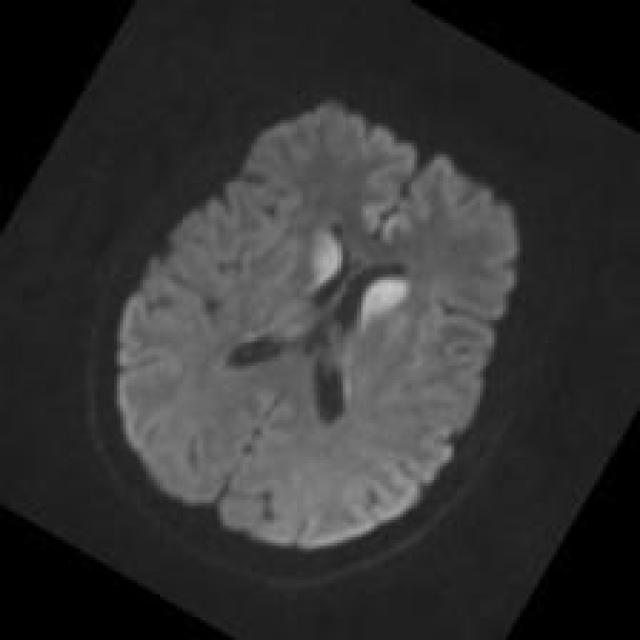no_tumor: (97, 94, 540, 582)
